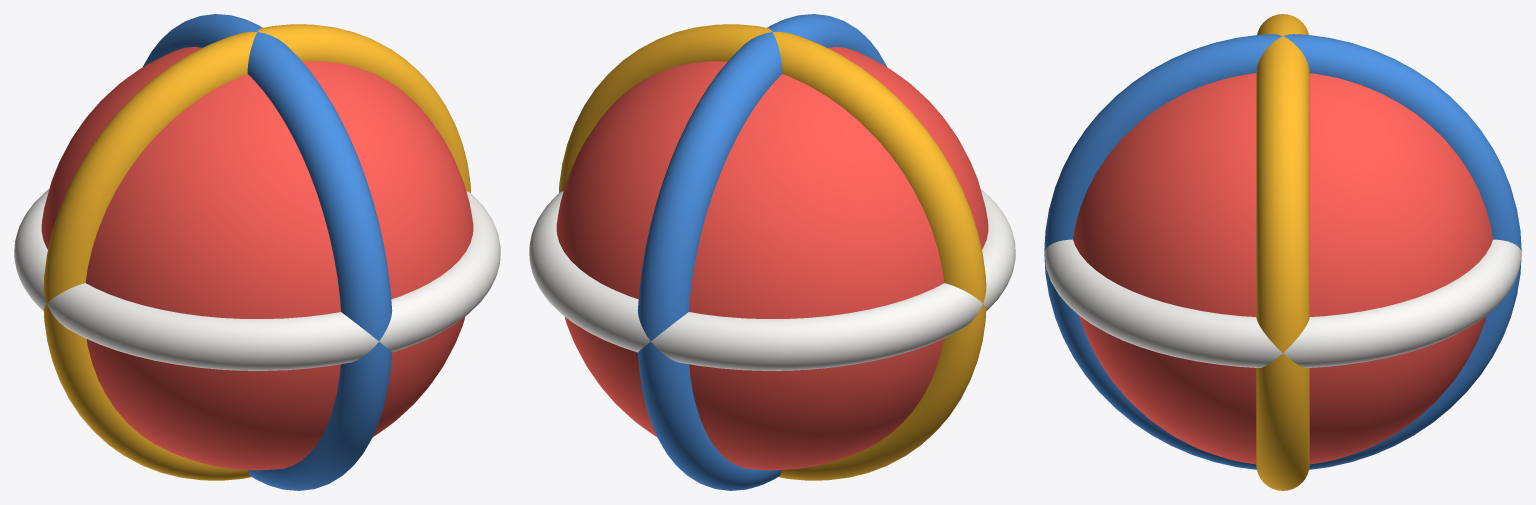
Rendered from beach_ball.glb.
The picture shows the model from 3 angles, left to right: view 1: azimuth 30°, elevation 25°; view 2: azimuth 150°, elevation 25°; view 3: azimuth 270°, elevation 25°; orthographic projection.
Parts seen in each view (by area): view 1: Ball, Stripe2, Stripe3, Stripe; view 2: Ball, Stripe2, Stripe3, Stripe; view 3: Ball, Stripe3, Stripe, Stripe2.
Part boxes in pixels (left/top/right/bottom): Ball: left=41, top=47, right=473, bottom=470; Stripe2: left=43, top=24, right=470, bottom=480; Stripe3: left=143, top=14, right=392, bottom=490; Stripe: left=14, top=189, right=500, bottom=370; Ball: left=556, top=47, right=988, bottom=470; Stripe2: left=559, top=24, right=986, bottom=480; Stripe3: left=637, top=14, right=886, bottom=490; Stripe: left=529, top=189, right=1015, bottom=370; Ball: left=1073, top=73, right=1492, bottom=464; Stripe3: left=1044, top=34, right=1521, bottom=469; Stripe: left=1044, top=239, right=1521, bottom=367; Stripe2: left=1256, top=14, right=1309, bottom=490.
Bounding box in the file's own units: 0.536 × 0.536 × 0.536.
